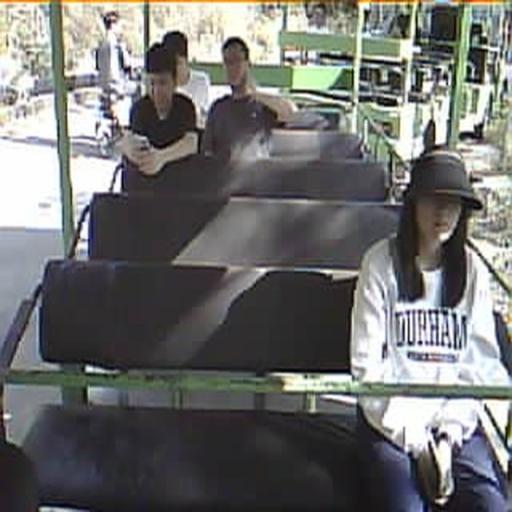persona: (349, 147, 511, 510), (201, 35, 297, 168), (122, 41, 200, 179), (160, 30, 211, 130)
